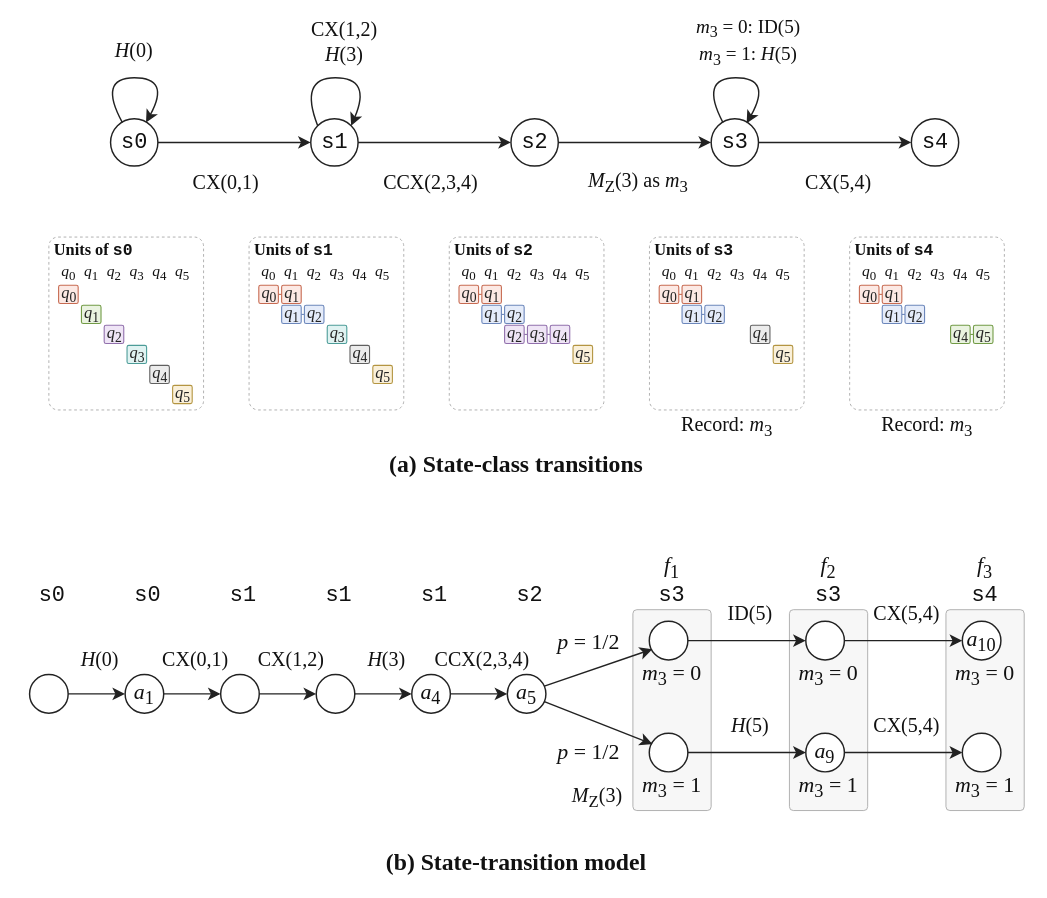
Some shapes in this 1047 by 898 pixel diagram are drawn without their labels. The centre of each missing label's shape, as x and y in pixels:
"a 0" goes at (x=48, y=693).
"a 11" goes at (x=981, y=752).
"a 2" goes at (x=239, y=693).
"a 3" goes at (x=335, y=693).
"a 6" goes at (x=668, y=640).
"a 7" goes at (x=668, y=752).
"a 8" goes at (x=825, y=640).
